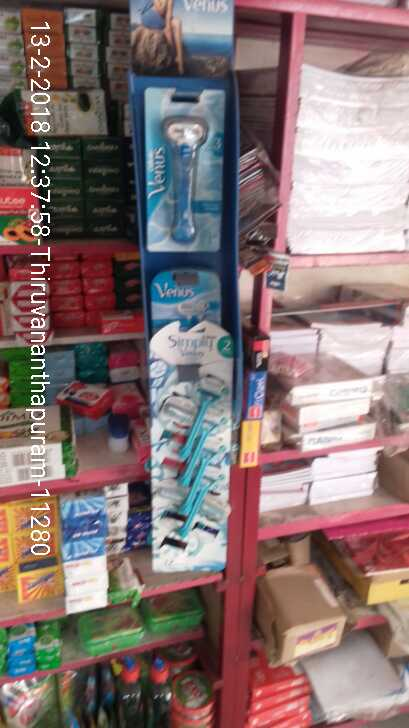venus: (146, 84, 220, 250), (147, 267, 217, 322)
